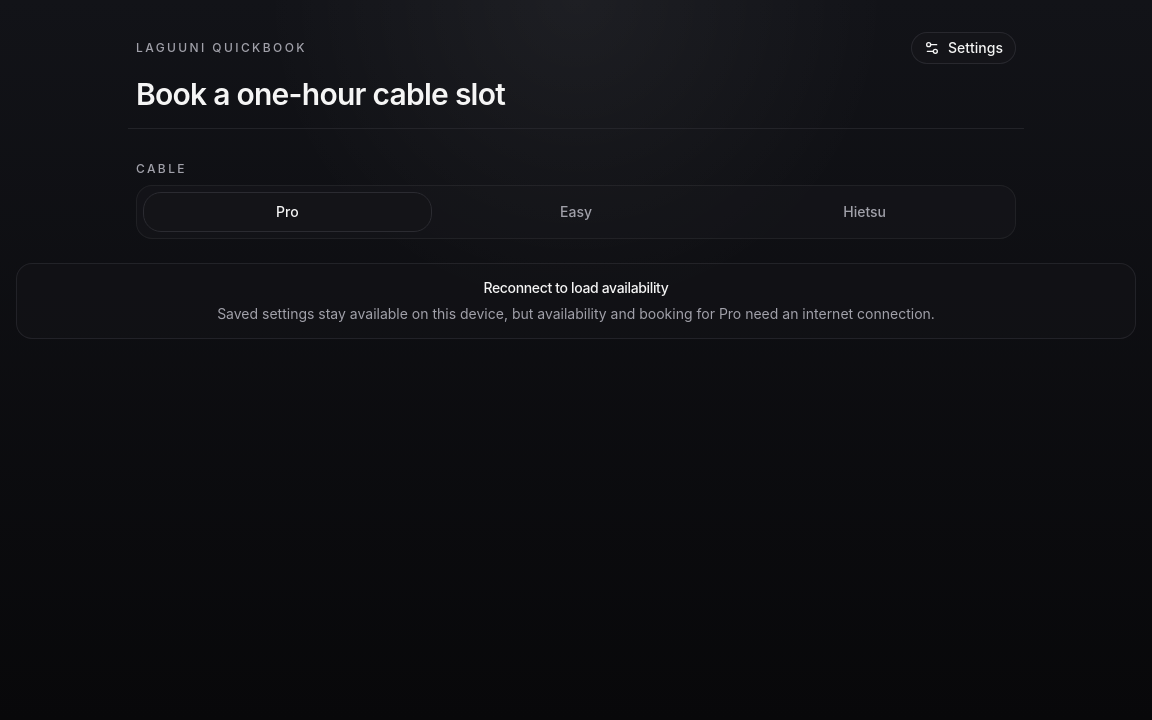
Scenario: Settings screen integration › exports all retained diagnostics logs from settings
This screenshot has width=1152, height=720.
Click the button "Settings": (964, 48) [911,32,1016,64]
(page scrolled)
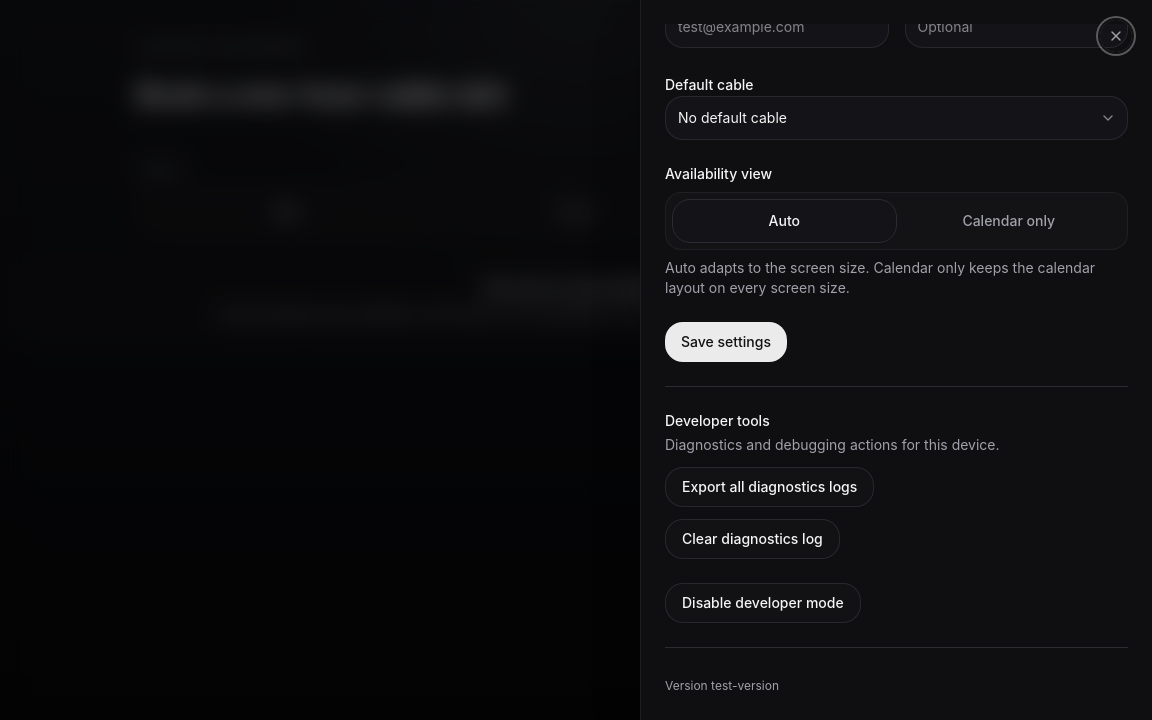
Check: the heading "Developer tools" is shown, box [665,412,770,429]
Click the button "Export all diagnostics logs": (770, 487) [665,467,874,507]
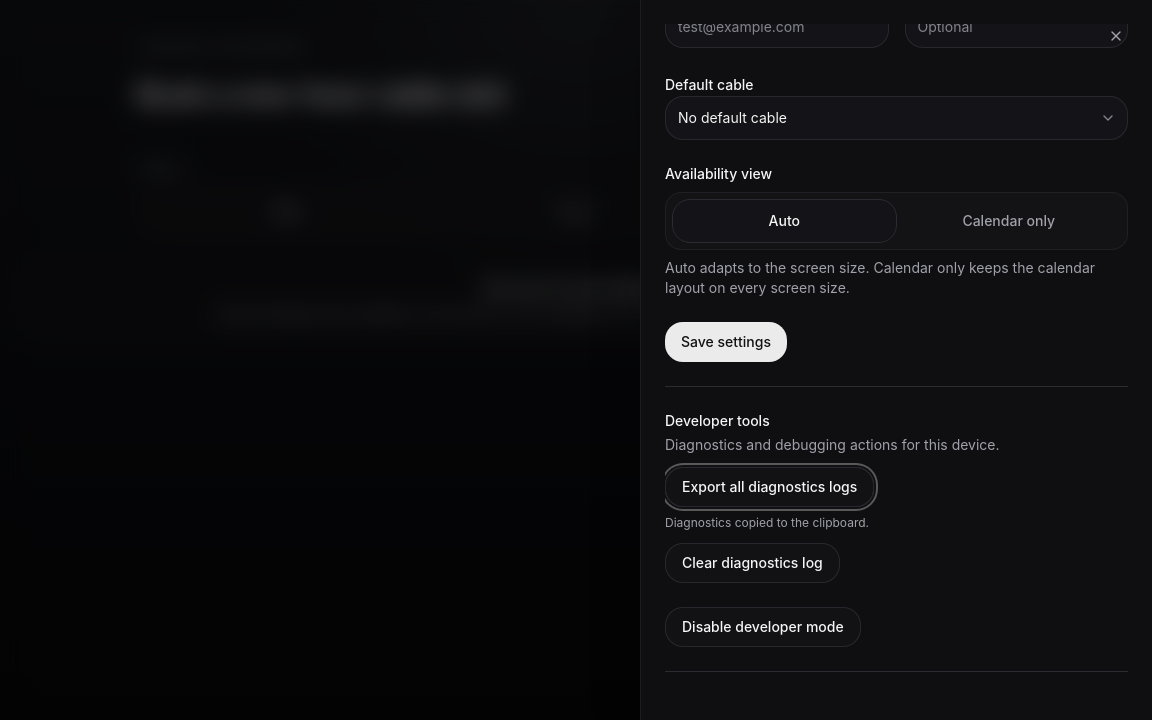
Check: the text "Diagnostics copied to the clipboard." is shown, box [665,515,869,530]
